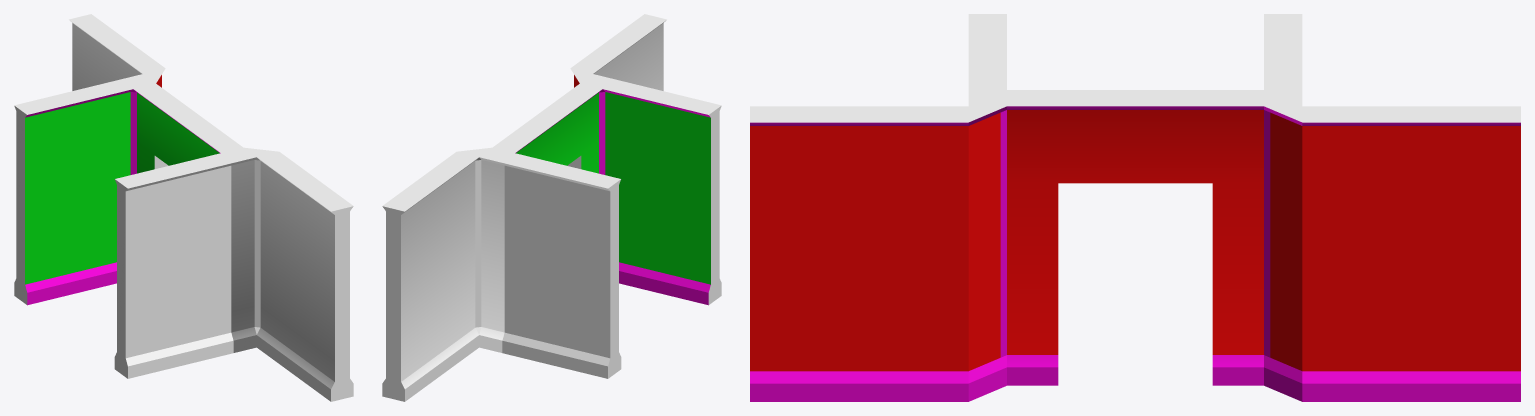
Rendered from DoorWayTest2.FBX.
3 renders of one model, left to right at view 1: azimuth 30°, elevation 25°; view 2: azimuth 150°, elevation 25°; view 3: azimuth 270°, elevation 25°, orthographic. The views are drawn at different scales.
Parts seen in each view (by area): view 1: ModularDoorway001; view 2: ModularDoorway001; view 3: ModularDoorway001.
Boxes of the visible parts, x1,y1,x2,y2 form: ModularDoorway001: [14, 14, 353, 401]; ModularDoorway001: [382, 14, 721, 401]; ModularDoorway001: [750, 14, 1520, 401].
Bounding box in the file's own units: 100 × 120 × 300.
